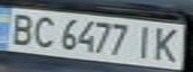4: (75, 18, 96, 53)
6: (54, 16, 81, 52)
7: (109, 20, 133, 56), (90, 19, 112, 55)
B: (3, 10, 39, 46)
C: (27, 14, 60, 48)
I: (130, 22, 160, 61)
K: (148, 25, 187, 63)
